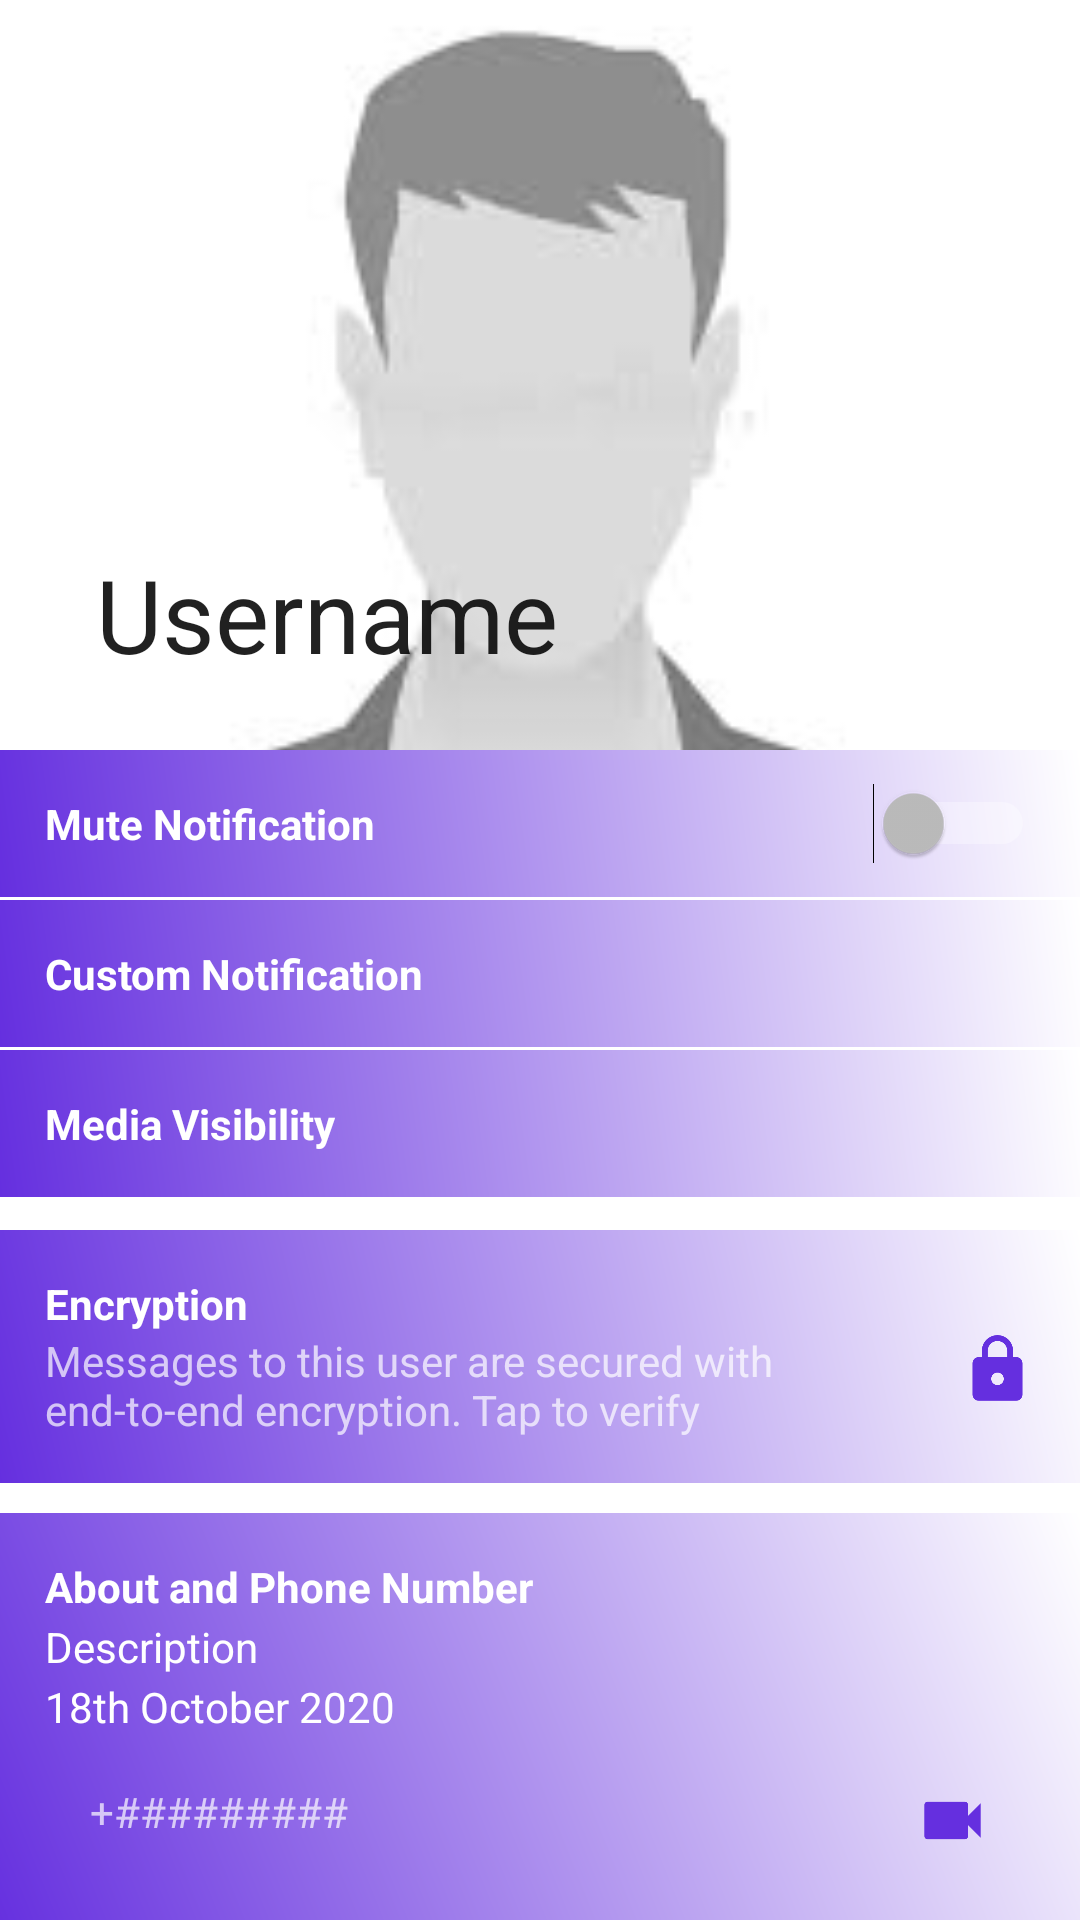

Where to tap for icons on this 1080×1920 app screen, as (x,y):
lock: (997,1368)
videocam: (952,1820)
